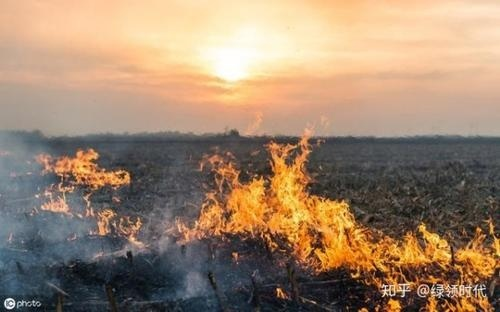fire: (182, 124, 499, 307), (30, 143, 145, 244)
